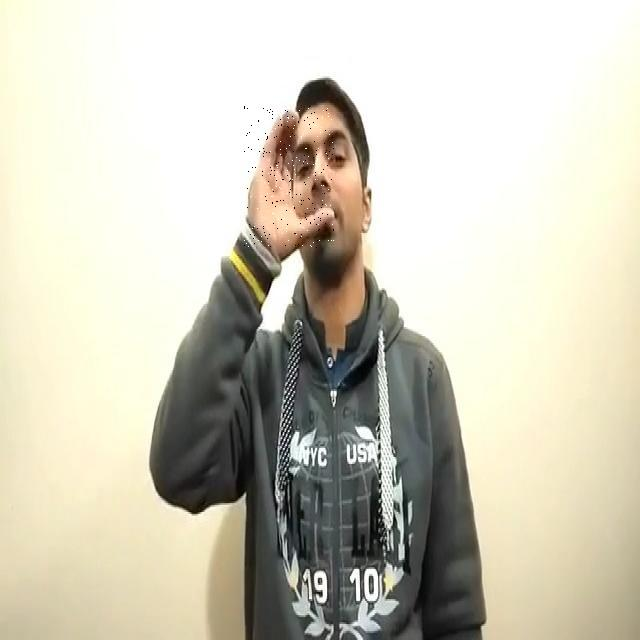drink: (244, 106, 334, 248)
